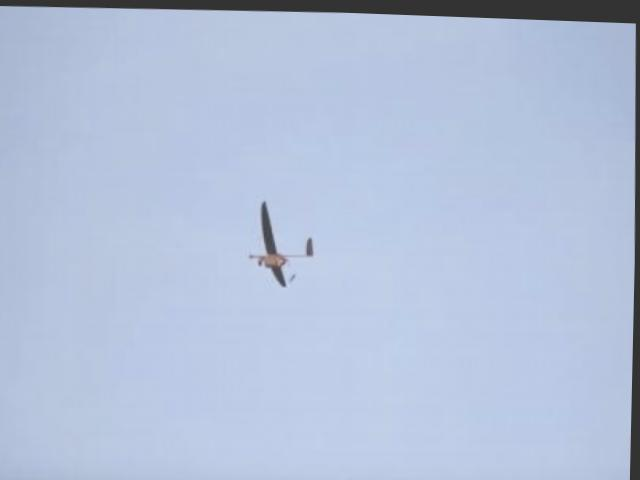uav: (247, 192, 321, 288)
